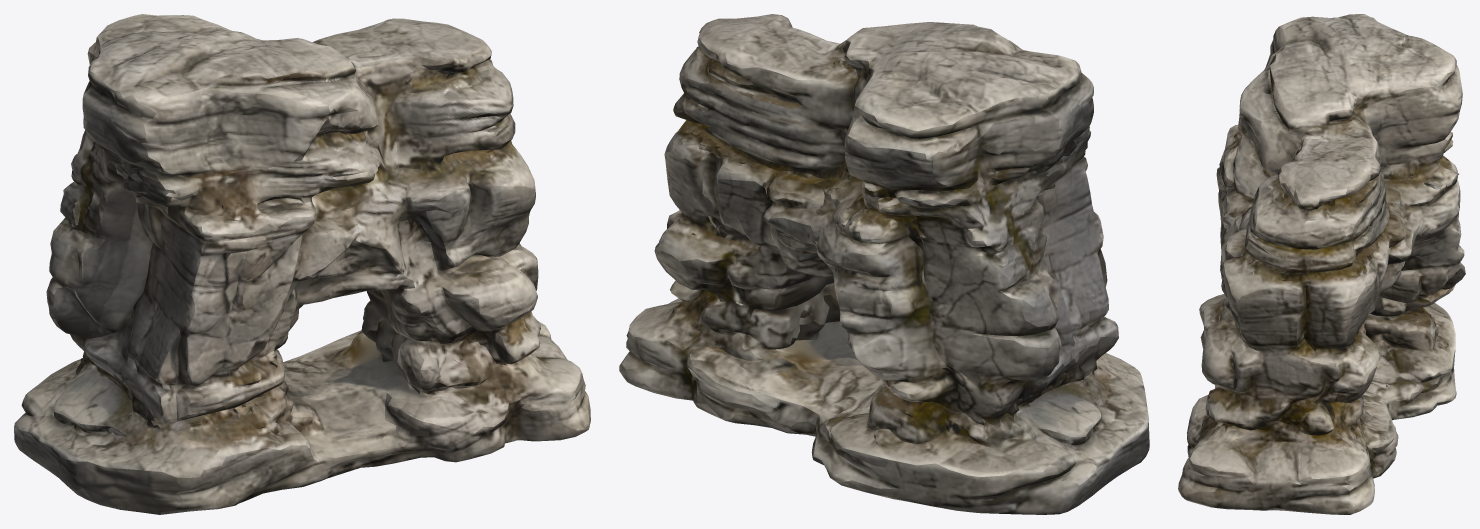
Rendered from coastal-rock-source.glb.
The picture shows the model from 3 angles, left to right: view 1: azimuth 30°, elevation 25°; view 2: azimuth 150°, elevation 25°; view 3: azimuth 270°, elevation 25°; orthographic projection. The views are drawn at different scales.
Visible parts, largest first — view 1: geometry_0; view 2: geometry_0; view 3: geometry_0.
Boxes of the visible parts, x1,y1,x2,y2 form: geometry_0: [14, 14, 590, 514]; geometry_0: [619, 14, 1149, 514]; geometry_0: [1178, 14, 1465, 514].
Bounding box in the file's own units: 1.2 × 0.9395 × 0.7239.
Materials: 1 (1 with a texture image).
